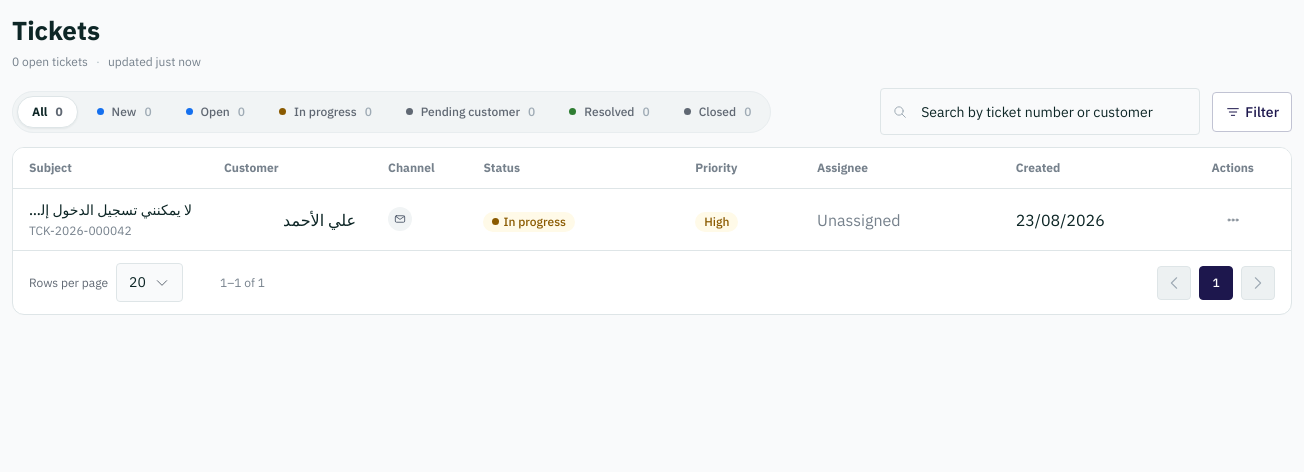
it: the panel › applies the chip draft only on تطبيق
This screenshot has width=1304, height=472.
Click the button "Filter".
click(1252, 112)  # box x1=1212 y1=92 x2=1292 y2=132
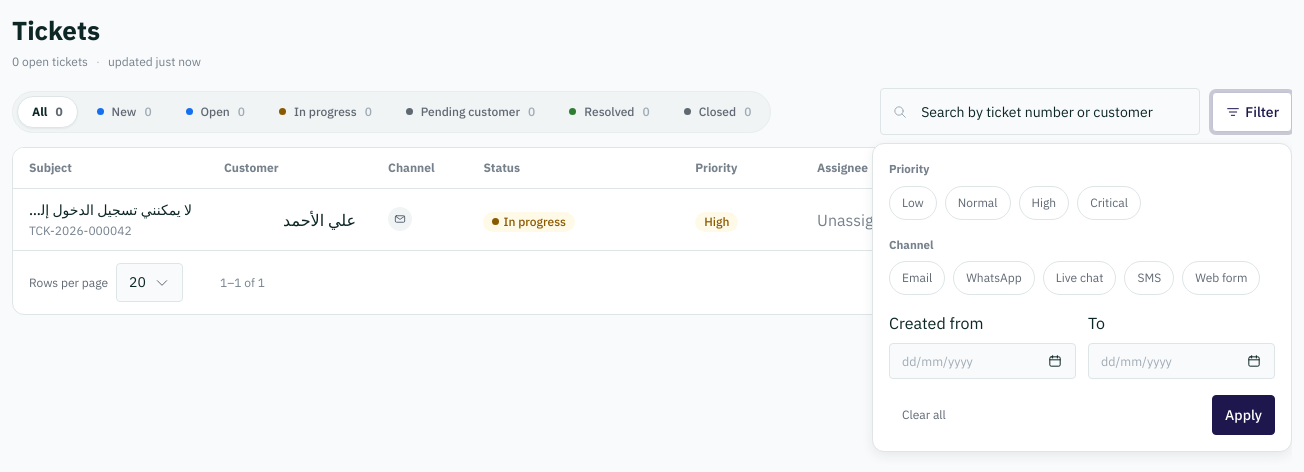
Click the button "High".
click(1044, 203)  # box x1=1018 y1=186 x2=1069 y2=220
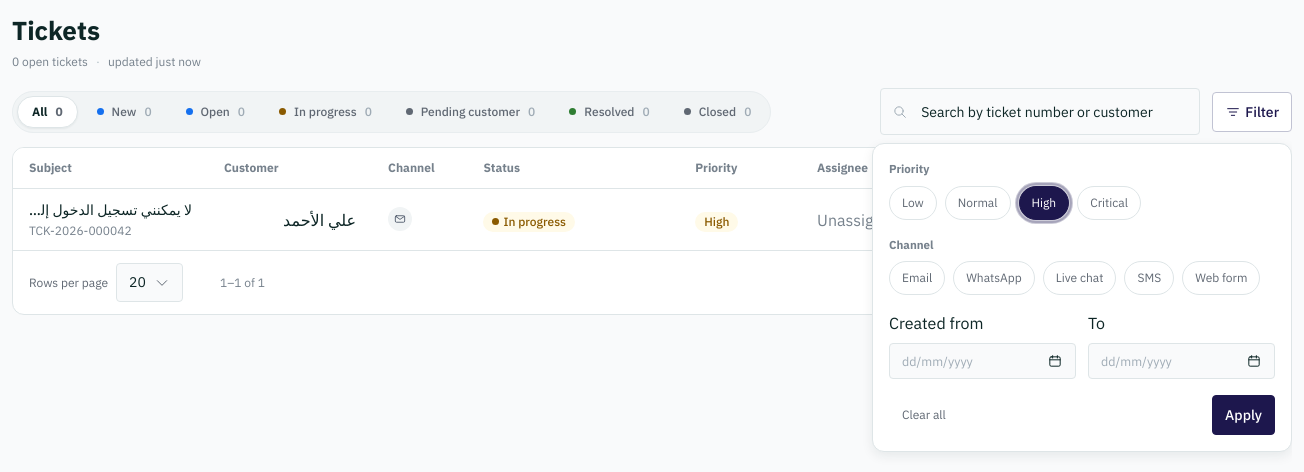
Click the button "Apply".
click(1244, 415)  # box x1=1212 y1=395 x2=1275 y2=435
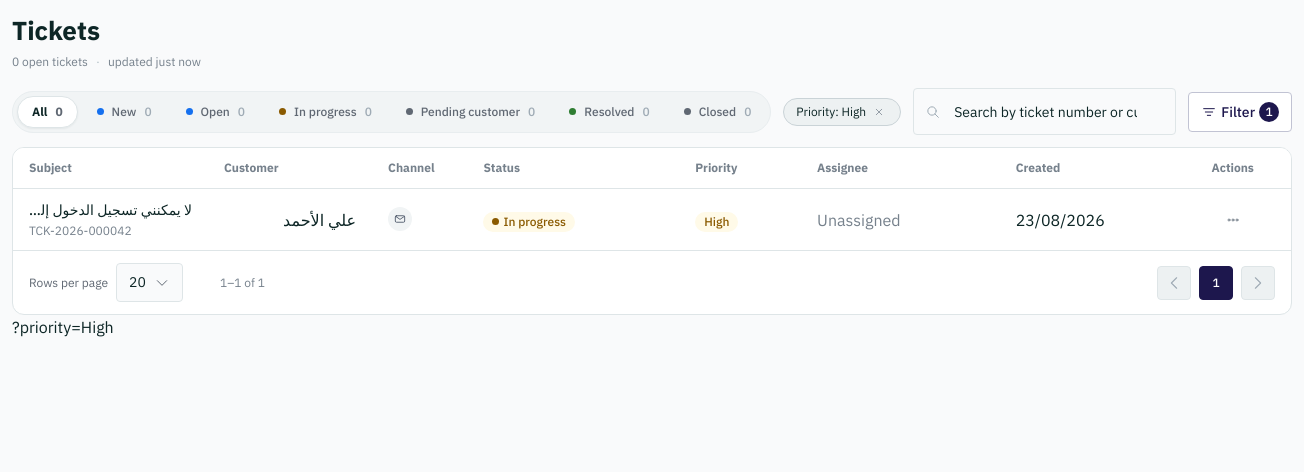
Expected: the text with test id "search" shows "priority=High", x1=12 y1=318 x2=114 y2=338
